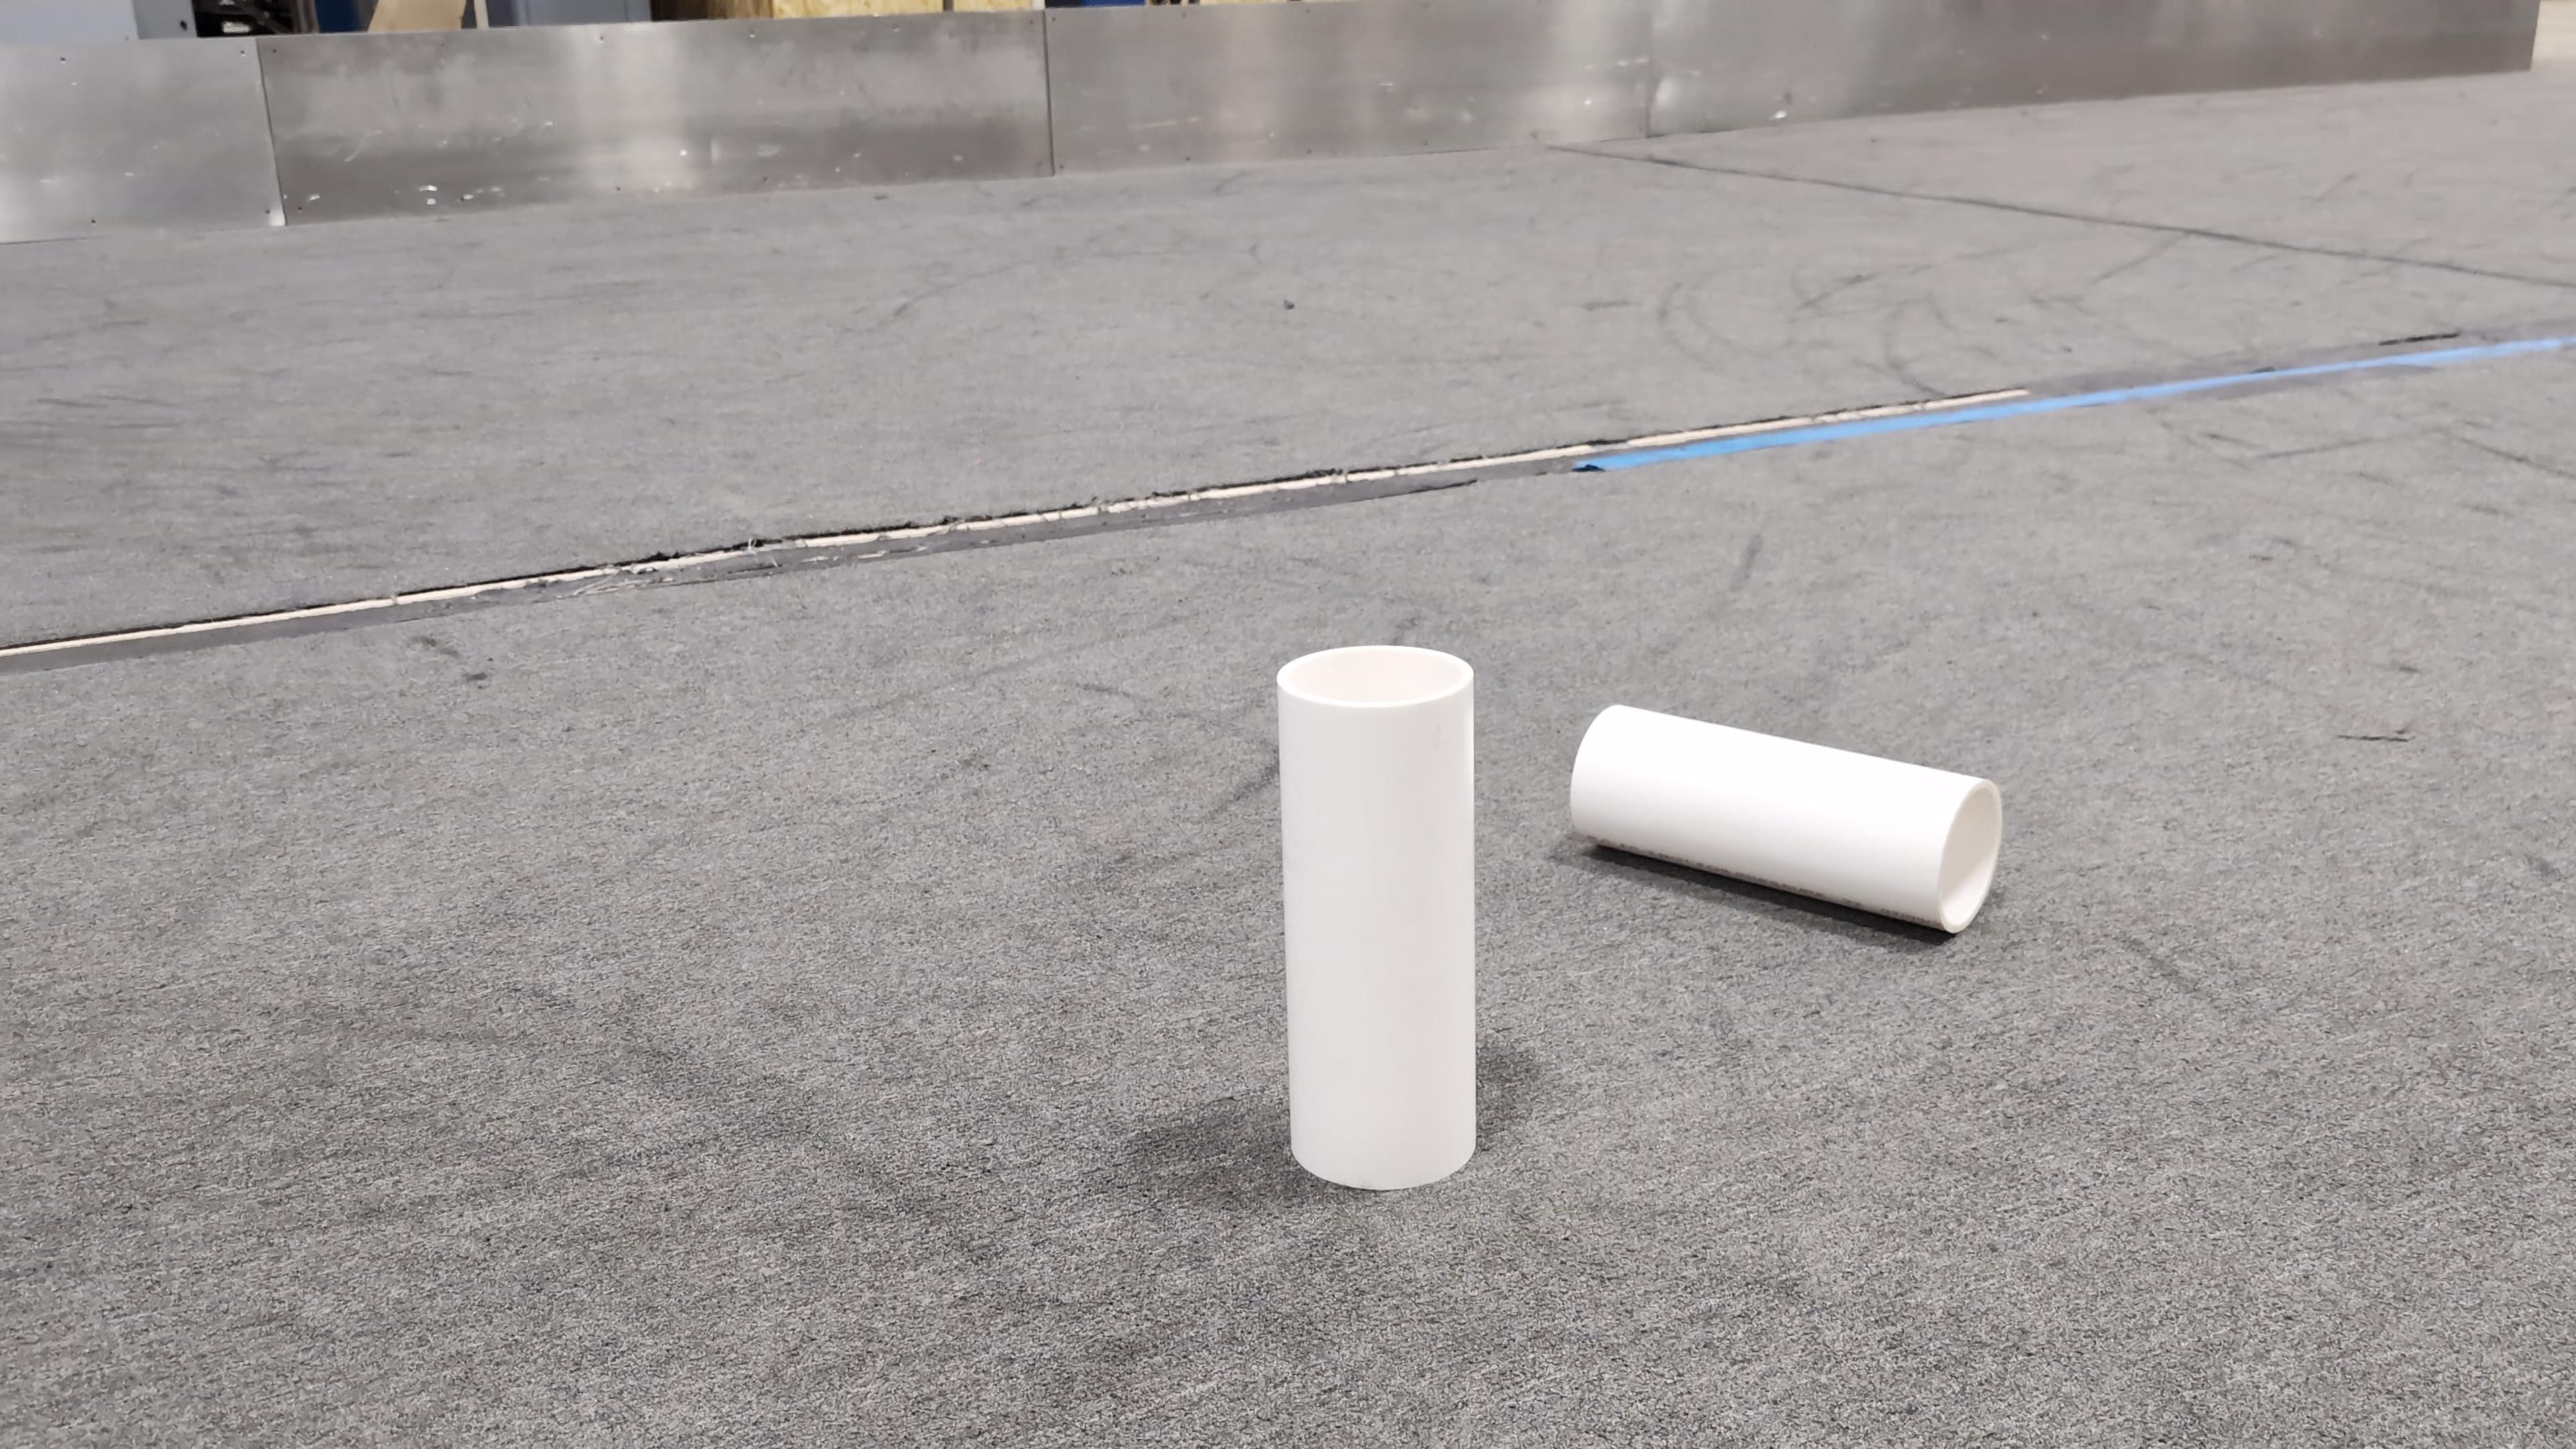coral: (1270, 644, 1484, 1185), (1566, 701, 2005, 934)
